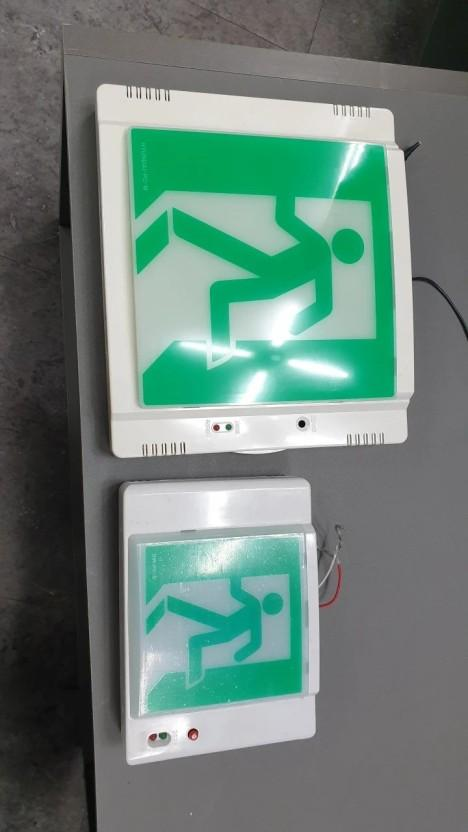emergency_exit: (94, 83, 416, 458), (118, 476, 321, 766)
